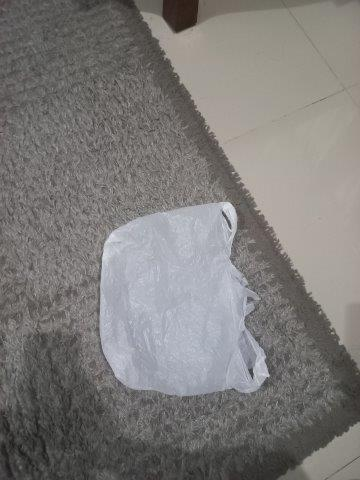plastik: (102, 202, 270, 393)
